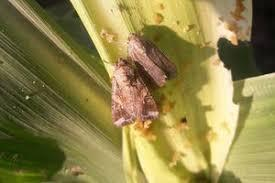fallarmy_worm: (109, 56, 156, 125)
